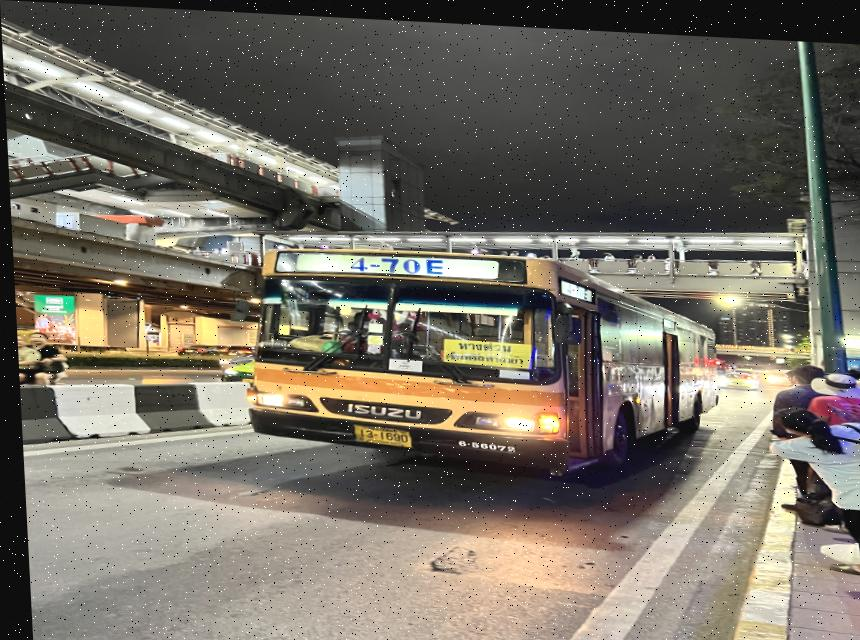BMTA-bus: (241, 239, 716, 473)
Bus Line Number: (331, 251, 459, 273)
Bus Side Number: (445, 431, 525, 450)
Destination Sign: (436, 332, 534, 364)
